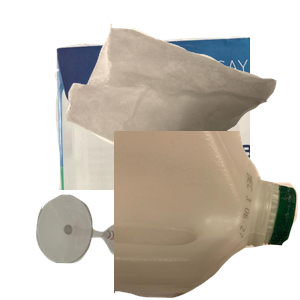glass: (34, 192, 187, 300)
paper: (52, 34, 292, 214)
plastic: (114, 131, 300, 300)
trash: (63, 21, 300, 172)
